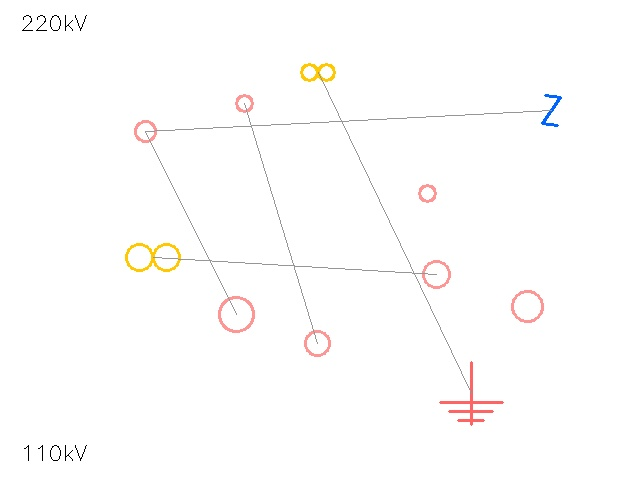circuit_breaker: (535, 94, 567, 126)
disconnect_switch: (202, 280, 270, 348)
feeder_terminal: (125, 111, 165, 151), (227, 86, 261, 120)
fuse: (409, 247, 463, 301)
ground: (440, 362, 502, 424)
reactor: (292, 318, 342, 368)
surge_arrester: (496, 275, 558, 337)
transformer_2w: (119, 223, 187, 291), (297, 51, 339, 93)
voltage_transformer: (411, 177, 443, 209)
